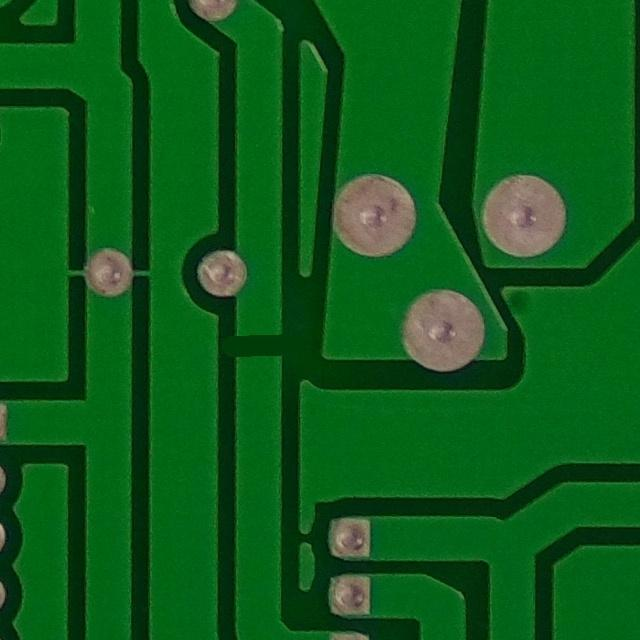open_circuit: (222, 313, 297, 377)
